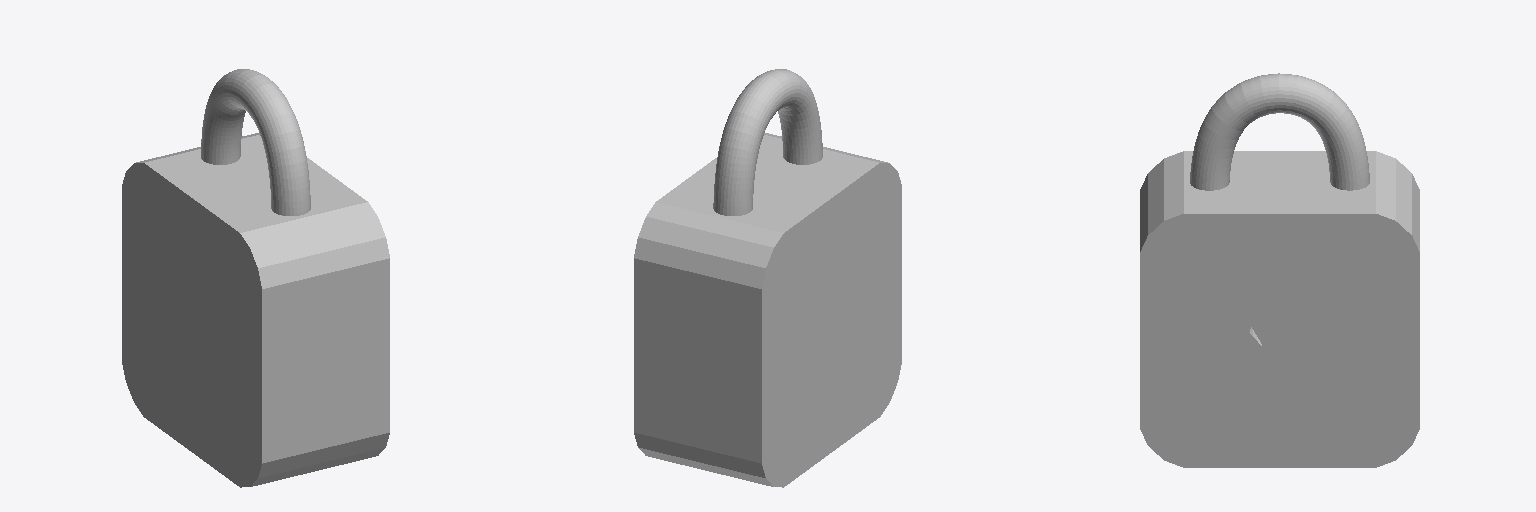
The model's file is lock.obj.
3 renders of one model, left to right at view 1: azimuth 30°, elevation 25°; view 2: azimuth 150°, elevation 25°; view 3: azimuth 270°, elevation 25°, orthographic.
Parts seen in each view (by area): view 1: Cylinder.001; view 2: Cylinder.001; view 3: Cylinder.001.
Part boxes in pixels (x1,y1,x2,y2): Cylinder.001: (122, 69, 389, 487); Cylinder.001: (634, 69, 901, 487); Cylinder.001: (1140, 73, 1419, 467).
Bounding box in the file's own units: 1.58 × 4.26 × 3.